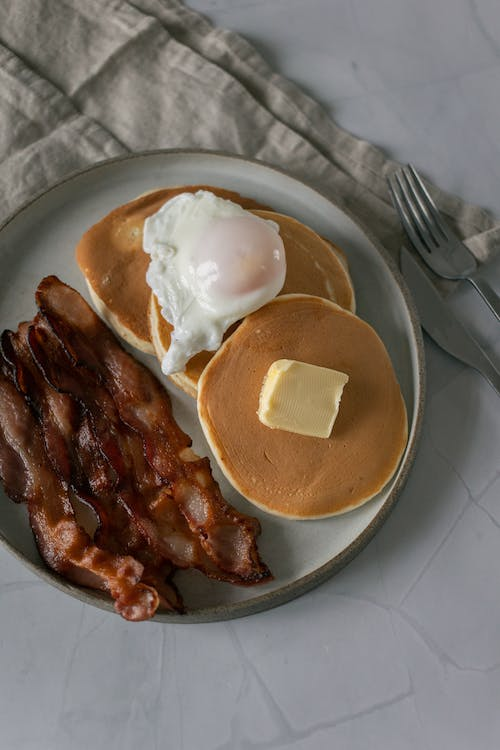knife: (399, 242, 500, 396)
